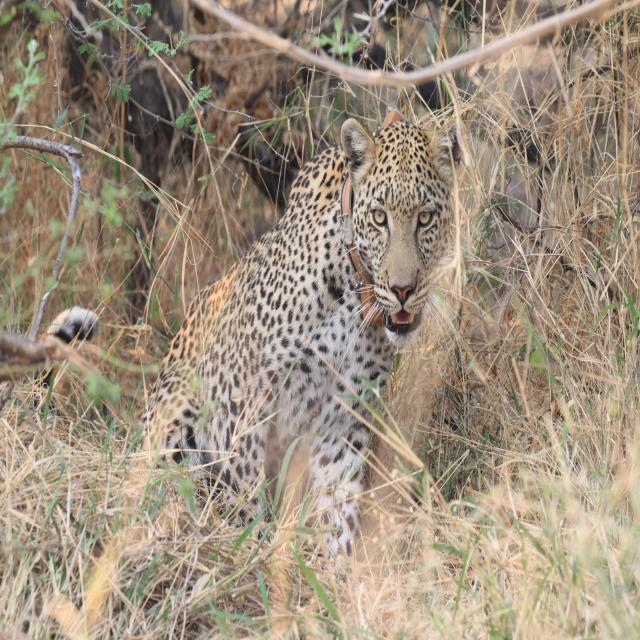Leopard: (88, 111, 476, 574)
